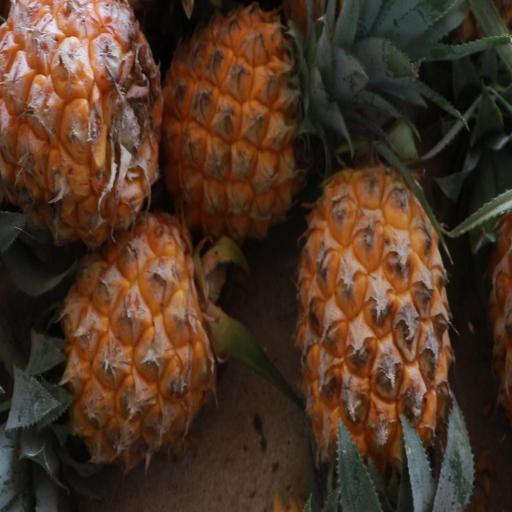Pineapple - v8 v1: (286, 162, 465, 512), (36, 197, 224, 470), (146, 0, 328, 256), (0, 0, 177, 263)
